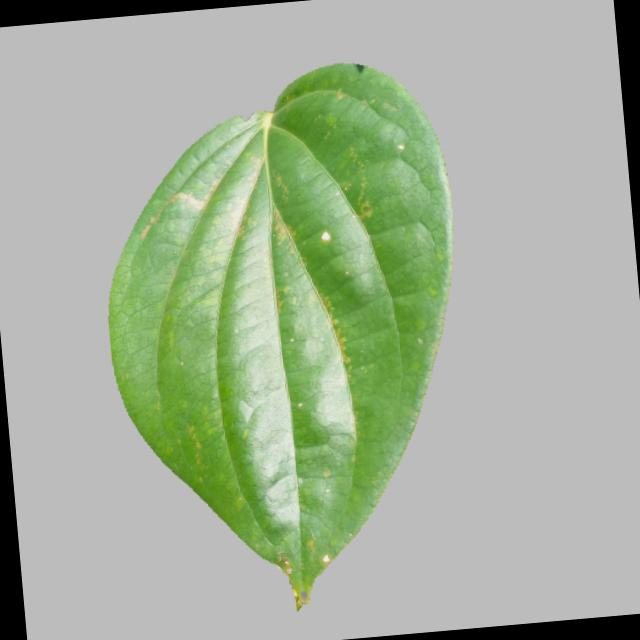healthy: (76, 48, 493, 630)
